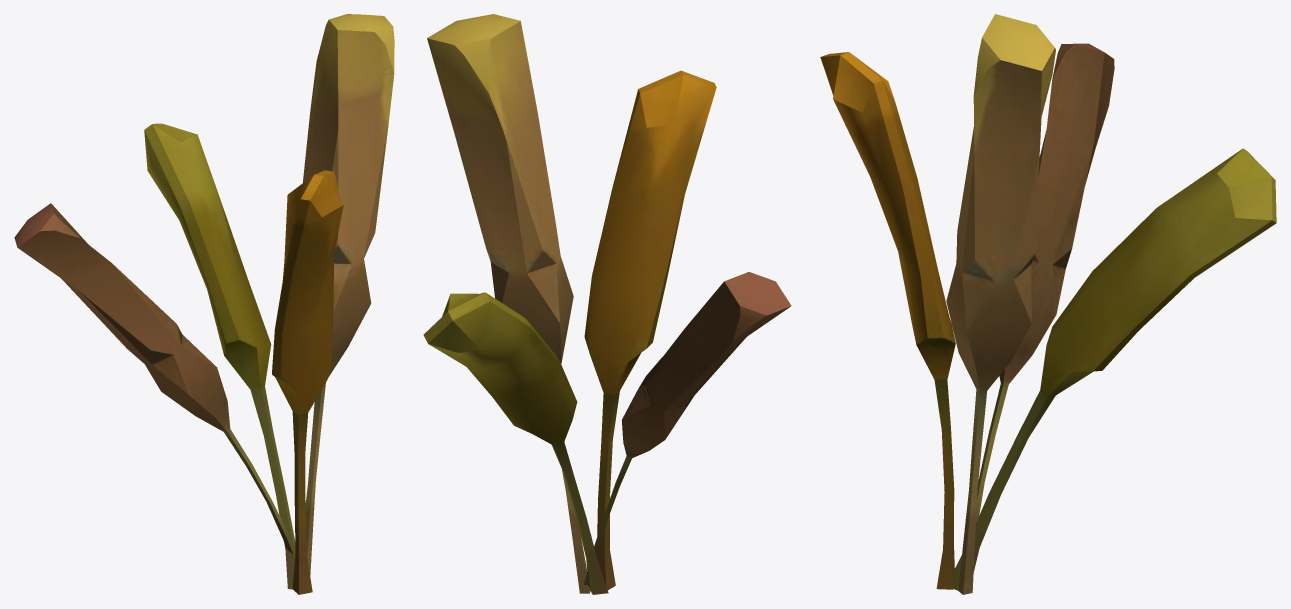
Rendered from FOL_Flower_Big_04.obj.
The picture shows the model from 3 angles, left to right: view 1: azimuth 30°, elevation 25°; view 2: azimuth 150°, elevation 25°; view 3: azimuth 270°, elevation 25°; orthographic projection. The views are drawn at different scales.
Visible parts, largest first — view 1: FOL_Flower_Big_04; view 2: FOL_Flower_Big_04; view 3: FOL_Flower_Big_04.
Boxes of the visible parts, x1=… form: FOL_Flower_Big_04: x1=14, y1=14, x2=394, y2=594; FOL_Flower_Big_04: x1=423, y1=14, x2=791, y2=594; FOL_Flower_Big_04: x1=820, y1=14, x2=1276, y2=594.
Bounding box in the file's own units: 1.06 × 1.52 × 1.04.
Materials: 1 (1 with a texture image).
